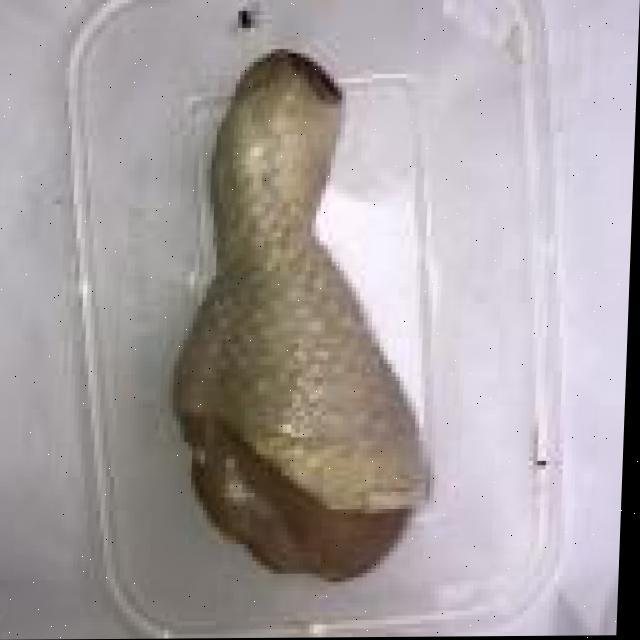leg: (184, 45, 441, 561)
